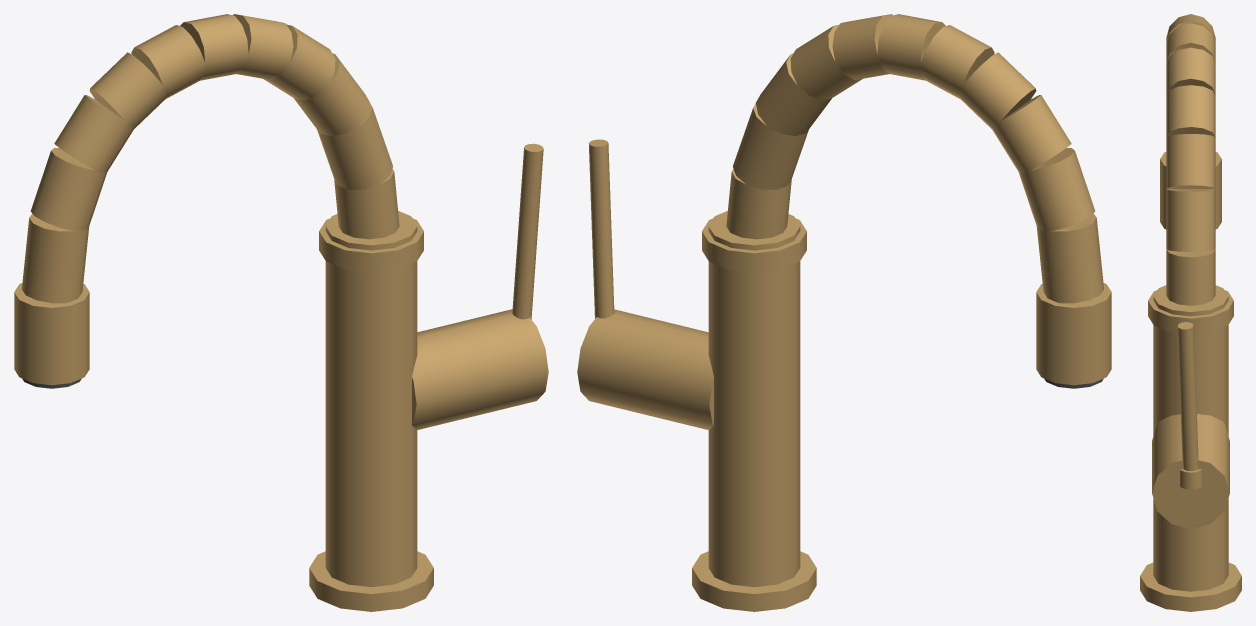
The model's file is linea-arc-brushed-brass.gltf.
3 renders of one model, left to right at view 1: azimuth 30°, elevation 25°; view 2: azimuth 150°, elevation 25°; view 3: azimuth 270°, elevation 25°, orthographic. The views are drawn at different scales.
Visible parts, largest first — view 1: Mixer body, Valve body, Nozzle, Arc 11, Arc 10, Deck plate, Arc 2, Arc 9, Lever, Arc 8, Arc 1, Arc 7 (+5 smaller); view 2: Mixer body, Valve body, Nozzle, Arc 11, Arc 10, Deck plate, Arc 2, Lever, Arc 9, Arc 8, Arc 1, Arc 7 (+5 smaller); view 3: Mixer body, Valve body, Arc 2, Arc 3, Arc 1, Deck plate, Lever, Arc 4, Arc 5, Body collar, Arc 6, Nozzle (+2 smaller).
Boxes of the visible parts, left/top/right/bottom form: Mixer body: left=325, top=211, right=417, bottom=587; Valve body: left=412, top=309, right=548, bottom=429; Nozzle: left=14, top=283, right=89, bottom=385; Arc 11: left=22, top=213, right=89, bottom=303; Arc 10: left=30, top=148, right=107, bottom=231; Deck plate: left=309, top=551, right=433, bottom=611; Arc 2: left=317, top=103, right=392, bottom=189; Arc 9: left=54, top=95, right=133, bottom=172; Lever: left=512, top=143, right=543, bottom=319; Arc 8: left=89, top=52, right=166, bottom=129; Arc 1: left=334, top=169, right=399, bottom=239; Arc 7: left=131, top=25, right=205, bottom=98; Mixer body: left=708, top=211, right=800, bottom=587; Valve body: left=577, top=309, right=713, bottom=429; Nozzle: left=1036, top=283, right=1111, bottom=385; Arc 11: left=1036, top=213, right=1103, bottom=303; Arc 10: left=1018, top=148, right=1095, bottom=231; Deck plate: left=692, top=551, right=816, bottom=611; Arc 2: left=733, top=103, right=808, bottom=189; Lever: left=588, top=139, right=614, bottom=318; Arc 9: left=992, top=95, right=1071, bottom=172; Arc 8: left=959, top=52, right=1036, bottom=129; Arc 1: left=726, top=169, right=791, bottom=239; Arc 7: left=920, top=25, right=994, bottom=98; Mixer body: left=1153, top=285, right=1228, bottom=591; Valve body: left=1152, top=414, right=1229, bottom=528; Arc 2: left=1166, top=189, right=1215, bottom=251; Arc 3: left=1166, top=134, right=1215, bottom=188; Arc 1: left=1166, top=249, right=1215, bottom=305; Deck plate: left=1140, top=562, right=1241, bottom=611; Lever: left=1177, top=322, right=1198, bottom=471; Arc 4: left=1166, top=85, right=1215, bottom=137; Arc 5: left=1166, top=47, right=1215, bottom=94; Body collar: left=1148, top=290, right=1233, bottom=333; Arc 6: left=1166, top=23, right=1215, bottom=63; Nozzle: left=1160, top=152, right=1221, bottom=229.
Size of the model in its own units: 0.366 by 0.4074 by 0.076.
